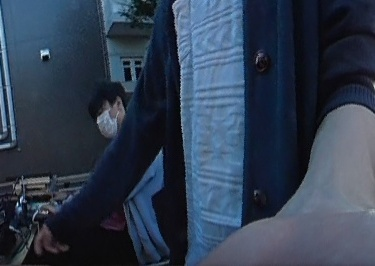person: (64, 77, 162, 266)
